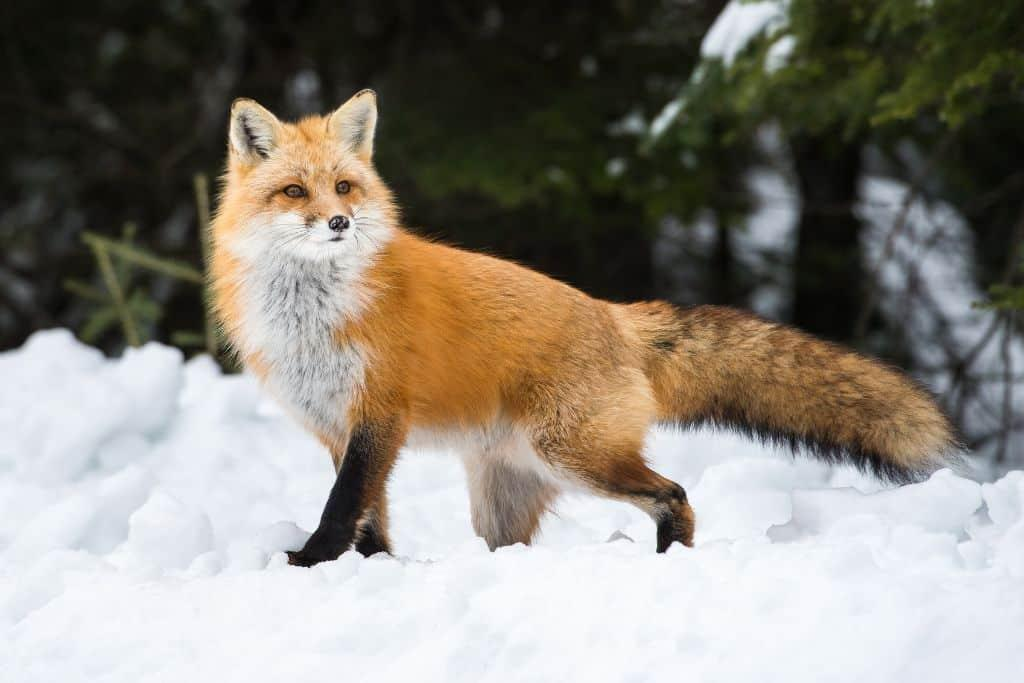fox: (125, 44, 984, 613)
